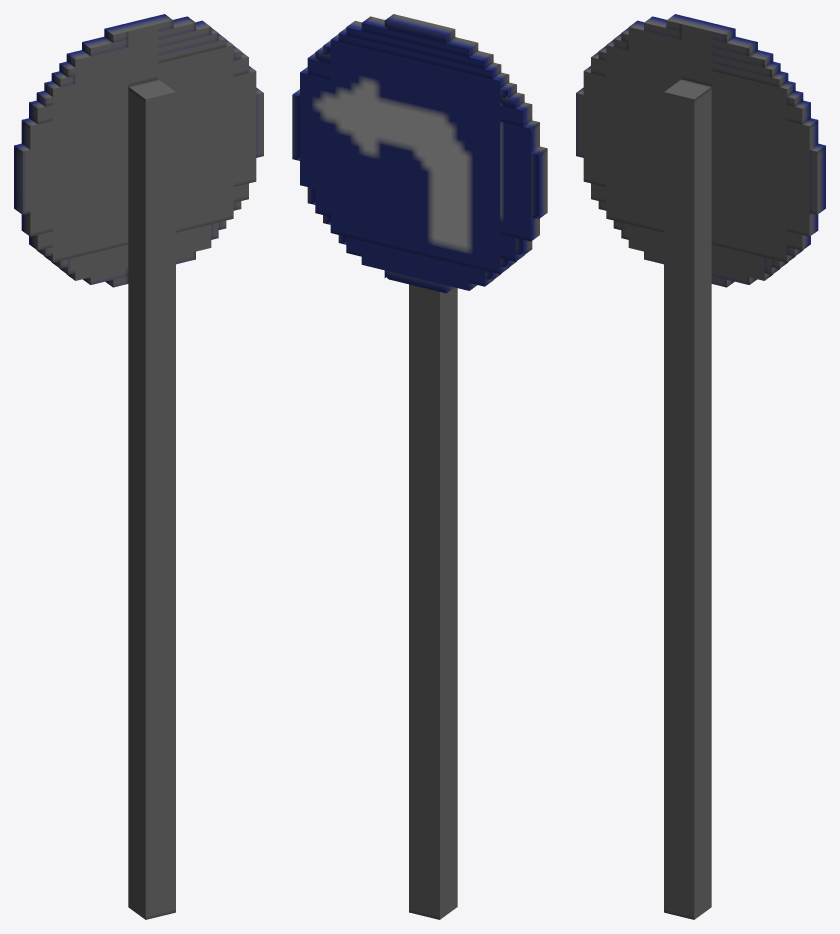
The picture shows the model from 3 angles, left to right: view 1: azimuth 30°, elevation 25°; view 2: azimuth 150°, elevation 25°; view 3: azimuth 330°, elevation 25°; orthographic projection. The views are drawn at different scales.
Visible parts, largest first — view 1: Content; view 2: Content; view 3: Content.
Boxes of the visible parts, left/top/right/bottom form: Content: left=14, top=14, right=263, bottom=919; Content: left=292, top=14, right=547, bottom=919; Content: left=576, top=14, right=825, bottom=919.
Size of the model in its own units: 32 by 111 by 6.
Materials: 1 (1 with a texture image).
